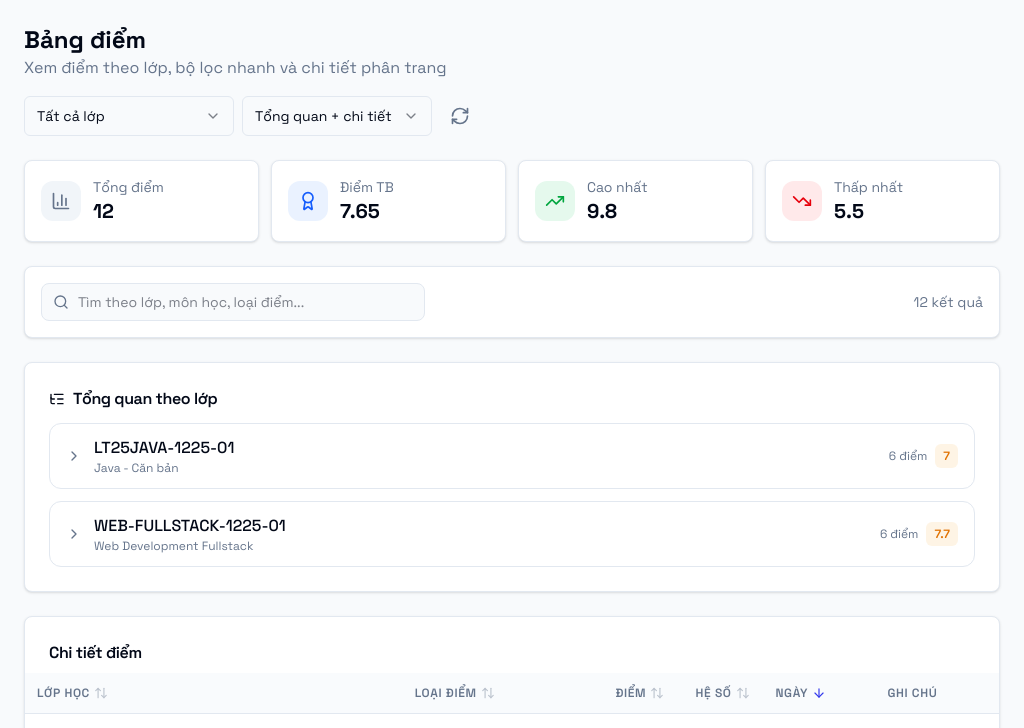
Scenario: StudentGrades page interactions › supports grouped drill-down expand/collapse interactions
Expected: the text "Lọc theo lớp này" is not shown
Click the button "LT25JAVA-1225-01 Java - Căn bản 6 điểm 7".
click(164, 448)  # box [50,424,974,488]
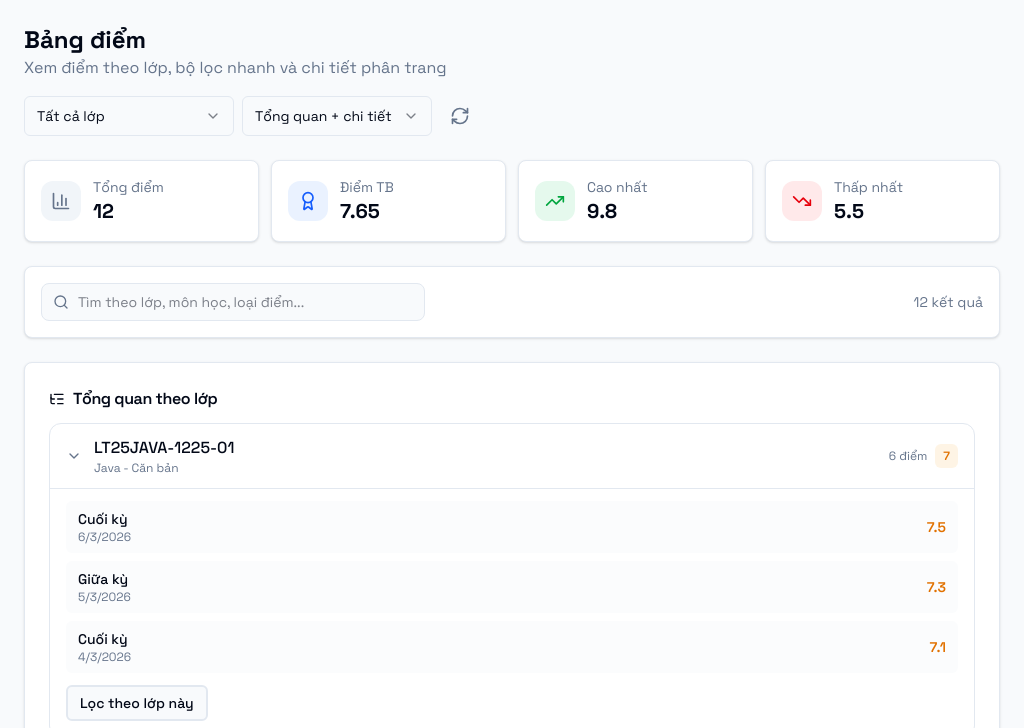
Now the text "Lọc theo lớp này" is shown, box [66,685,208,721]
